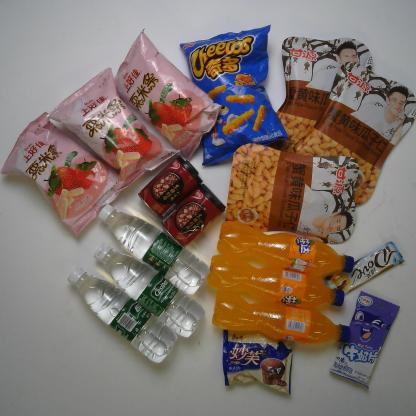Candy: (329, 290, 404, 390)
Canned Food: (160, 182, 227, 250), (138, 154, 202, 223)
Chocolate: (324, 239, 405, 297)
Dessert: (217, 321, 296, 396)
Dried Fruit: (289, 61, 415, 210), (224, 142, 360, 245), (265, 35, 373, 159)
Drink: (95, 198, 209, 298), (67, 264, 175, 364), (93, 240, 201, 340), (208, 287, 352, 347), (202, 252, 346, 310), (213, 221, 354, 280)
Puffed Food: (46, 66, 180, 196), (1, 111, 127, 238), (180, 24, 291, 166), (110, 28, 223, 164)
